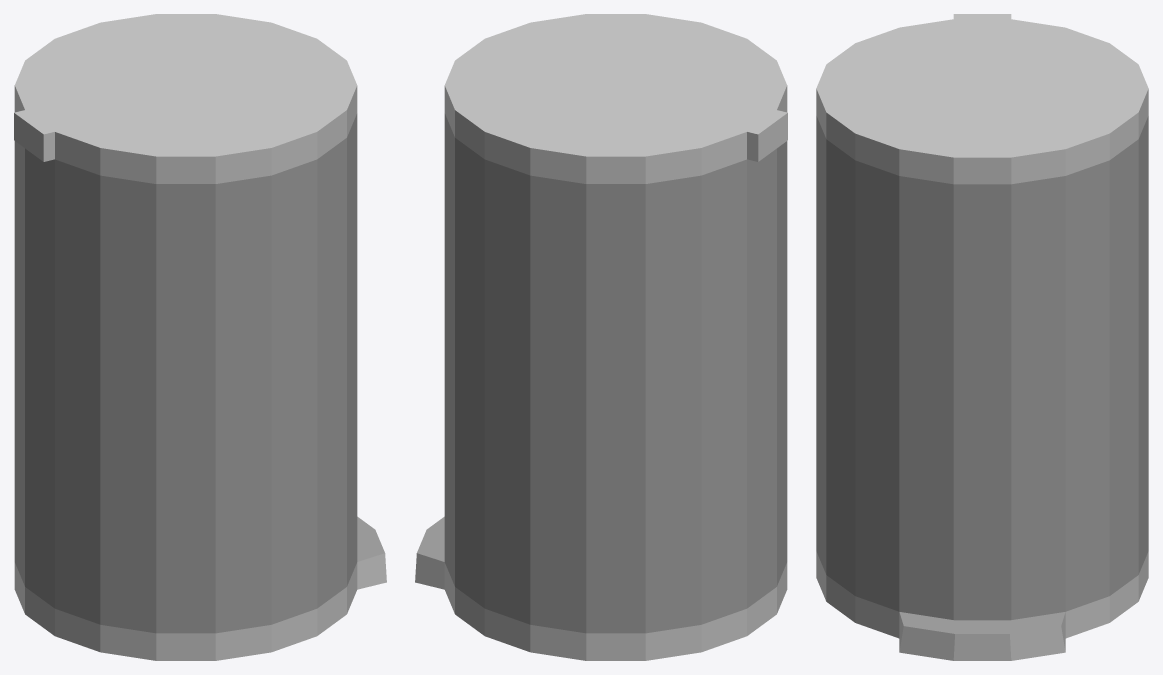
Rendered from trashcan.glb.
3 renders of one model, left to right at view 1: azimuth 30°, elevation 25°; view 2: azimuth 150°, elevation 25°; view 3: azimuth 270°, elevation 25°, orthographic. The views are drawn at different scales.
Parts seen in each view (by area): view 1: Cylinder; view 2: Cylinder; view 3: Cylinder.
Part boxes in pixels (box(x1,y1,x2,y2)): Cylinder: box(14, 14, 386, 660); Cylinder: box(415, 14, 787, 660); Cylinder: box(816, 14, 1148, 660).
Size of the model in its own units: 0.4489 by 0.65 by 0.4.
Materials: 1 (1 with a texture image).
